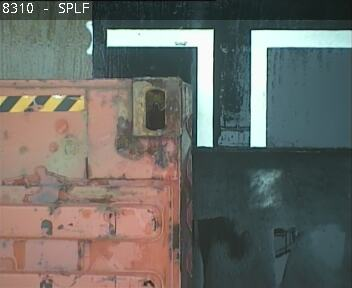groundmarker_1: (107, 28, 351, 148)
